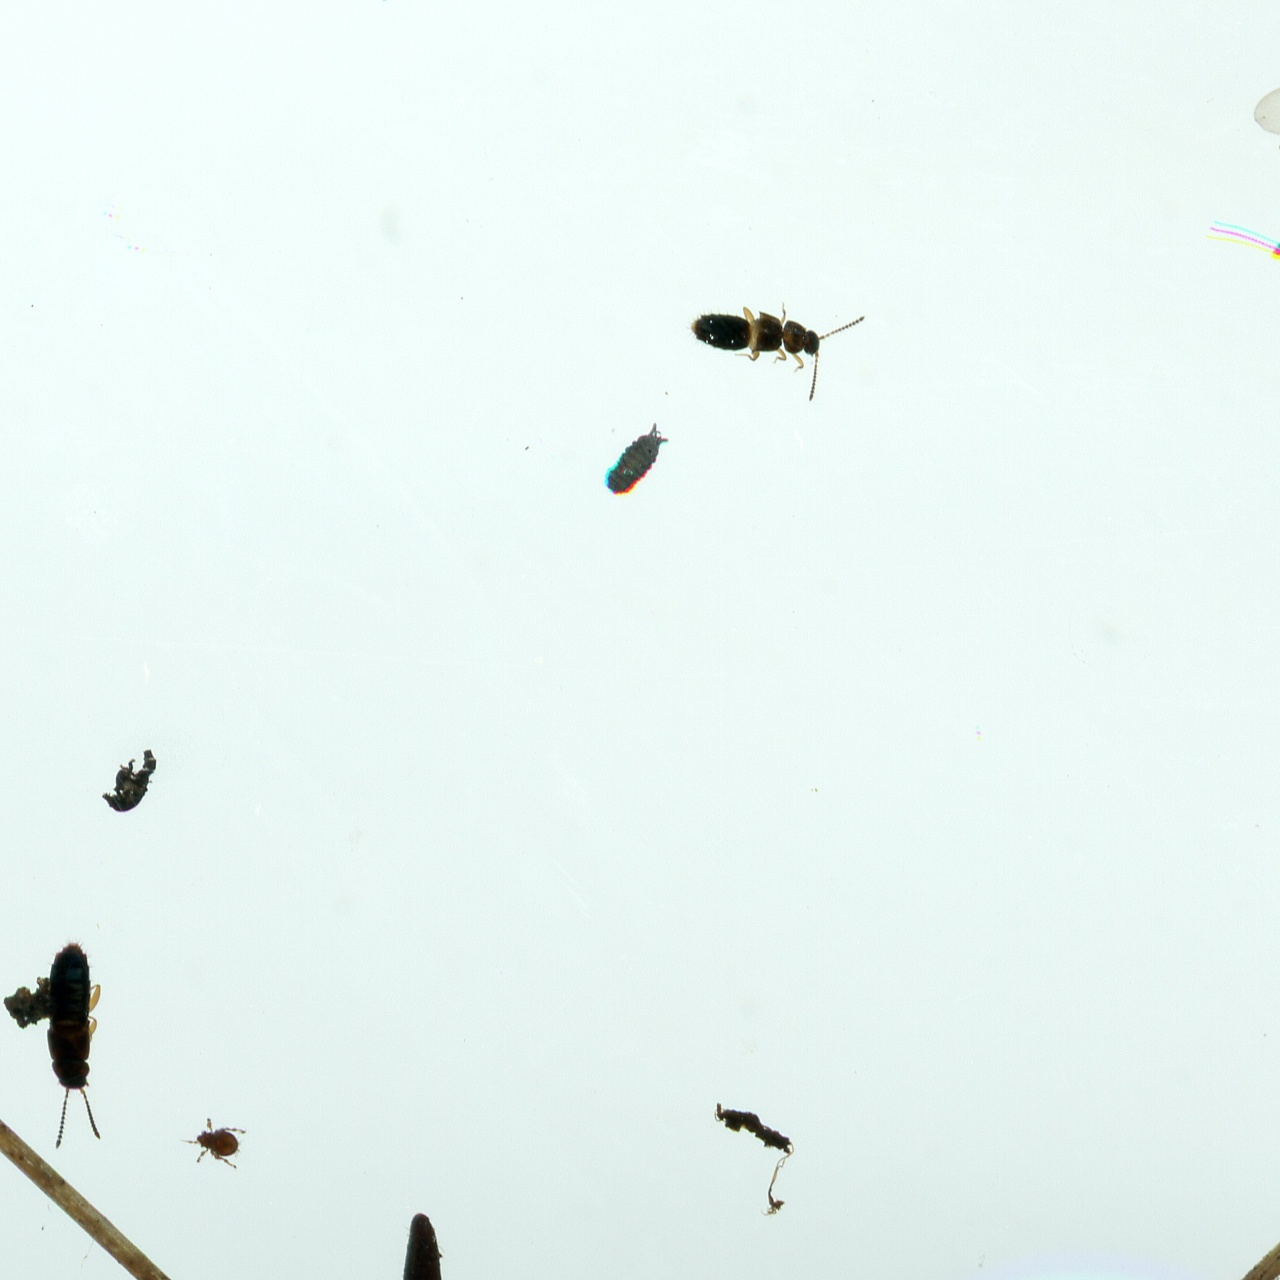arthropod: (693, 306, 866, 404), (47, 933, 102, 1149), (1207, 205, 1280, 314), (601, 421, 672, 497), (183, 1118, 247, 1170)
